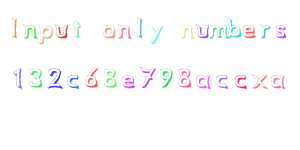1: (8, 64, 26, 90)
2: (46, 65, 65, 92)
3: (28, 66, 46, 91)
6: (85, 63, 99, 92)
7: (138, 64, 159, 92)
8: (176, 65, 194, 92), (103, 66, 119, 92)
9: (157, 64, 175, 93)
I: (7, 14, 21, 44)
a: (270, 71, 290, 94), (196, 68, 214, 93)
b: (227, 17, 242, 46)
c: (214, 69, 232, 92), (233, 70, 250, 93), (67, 70, 82, 93)
e: (121, 68, 137, 94), (243, 20, 258, 45)
l: (134, 13, 146, 44)
m: (210, 18, 228, 46)
n: (177, 18, 196, 44), (22, 18, 39, 45), (116, 21, 134, 44)
o: (99, 20, 117, 43)
p: (38, 21, 54, 45)
r: (259, 19, 272, 45)
s: (275, 21, 288, 43)
t: (71, 18, 84, 42)
u: (54, 21, 70, 43), (196, 18, 209, 44)
x: (251, 71, 270, 93)
y: (146, 18, 166, 46)
